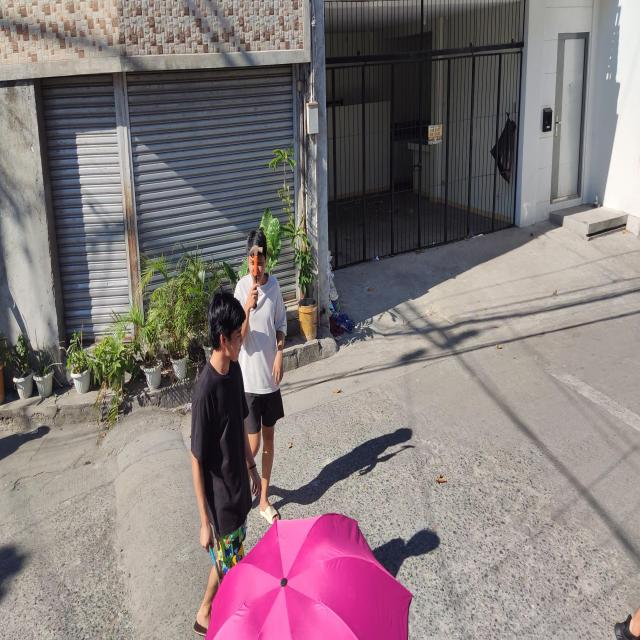hammer: (248, 245, 263, 309), (208, 542, 222, 588)
